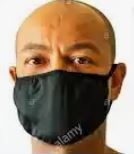with_facemask: (15, 73, 101, 142)
